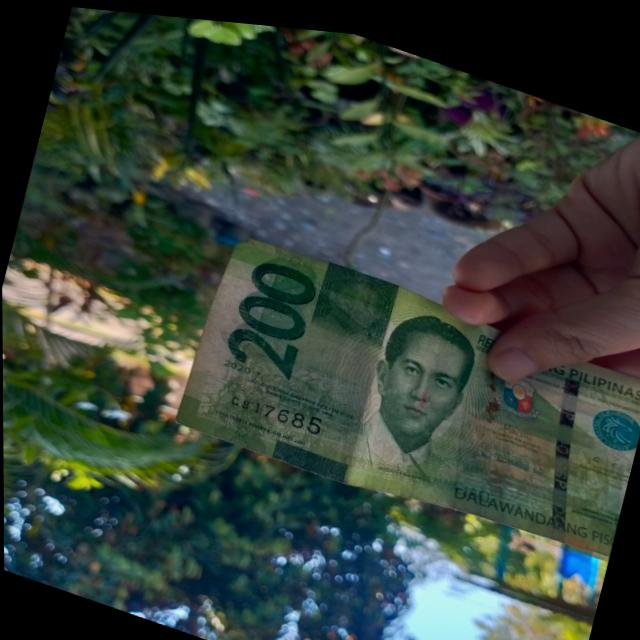concealed_value: (310, 253, 400, 344)
security_thread: (521, 338, 608, 536)
serial_number: (225, 379, 326, 434)
value: (220, 250, 319, 380)
